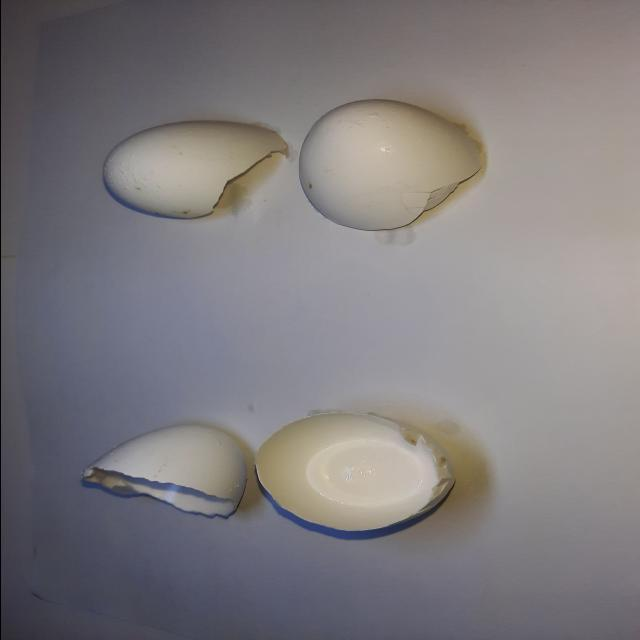egg shell: (248, 409, 462, 535), (296, 96, 488, 235), (95, 118, 295, 222), (72, 420, 248, 520)
